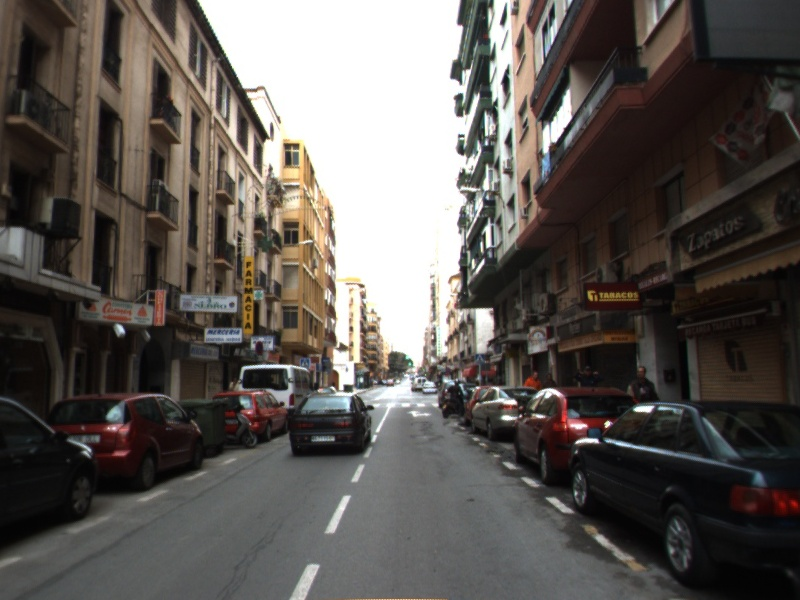STRAIGHT_RIGHT: (405, 408, 434, 419)
